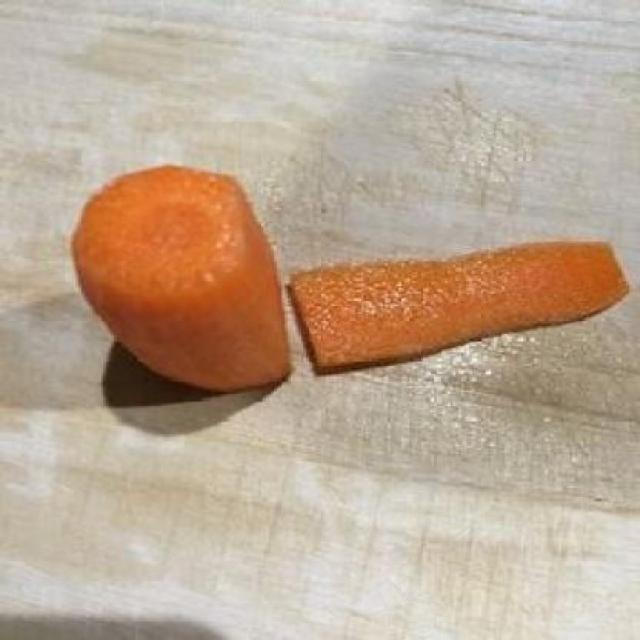carrot: (66, 151, 300, 424)
